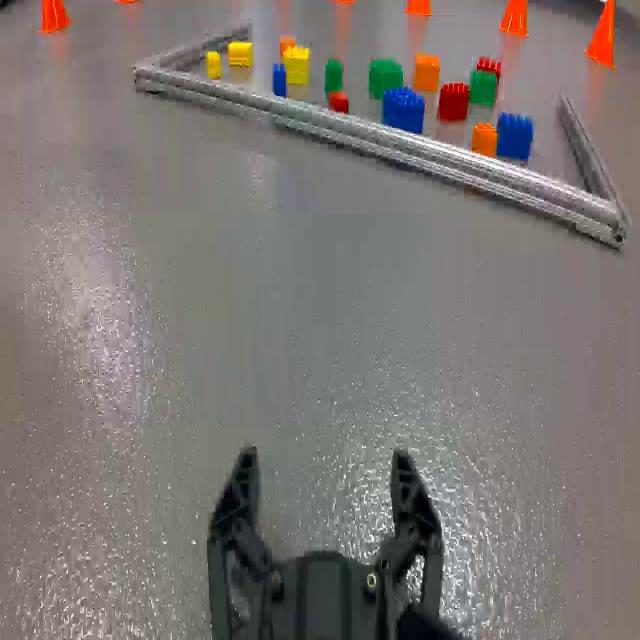block: (285, 47, 310, 85), (228, 42, 254, 69), (206, 51, 222, 77)
blue: (380, 87, 428, 130), (497, 110, 533, 160), (273, 59, 287, 96)
cone: (584, 0, 620, 73), (37, 0, 74, 35), (500, 0, 530, 36), (401, 0, 430, 13)
green: (370, 57, 404, 90), (469, 69, 497, 107), (326, 58, 342, 90)
metal barrier: (136, 21, 631, 251)
orange: (414, 48, 440, 91), (473, 122, 497, 152)
red goal: (440, 83, 468, 121), (477, 56, 500, 71), (332, 94, 348, 112)
